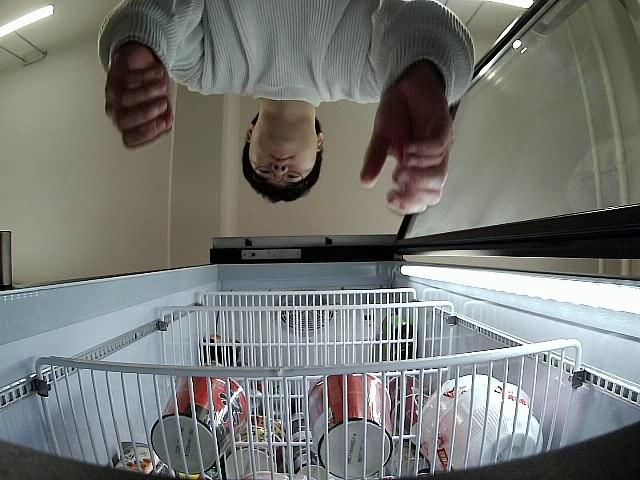00_hand: (359, 85, 453, 213), (103, 47, 175, 152)
